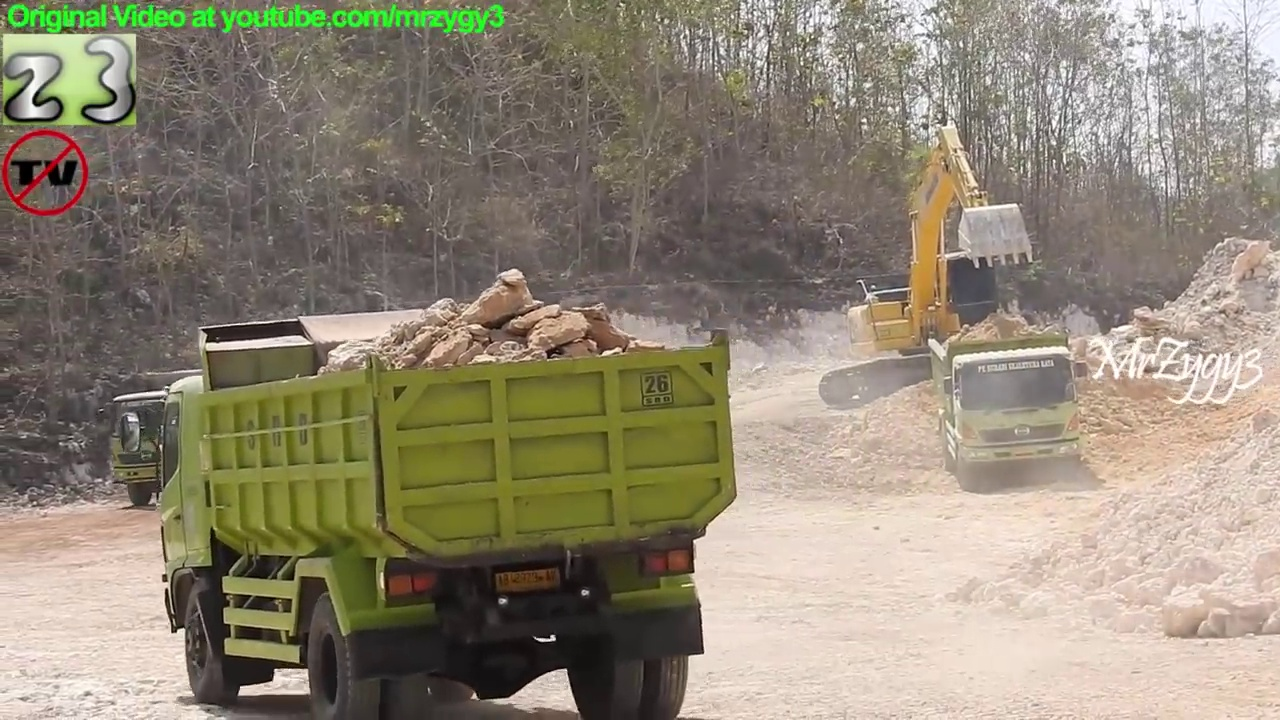excavator: (813, 120, 1077, 413)
truck: (117, 306, 744, 720), (98, 367, 367, 517), (919, 326, 1095, 492)
